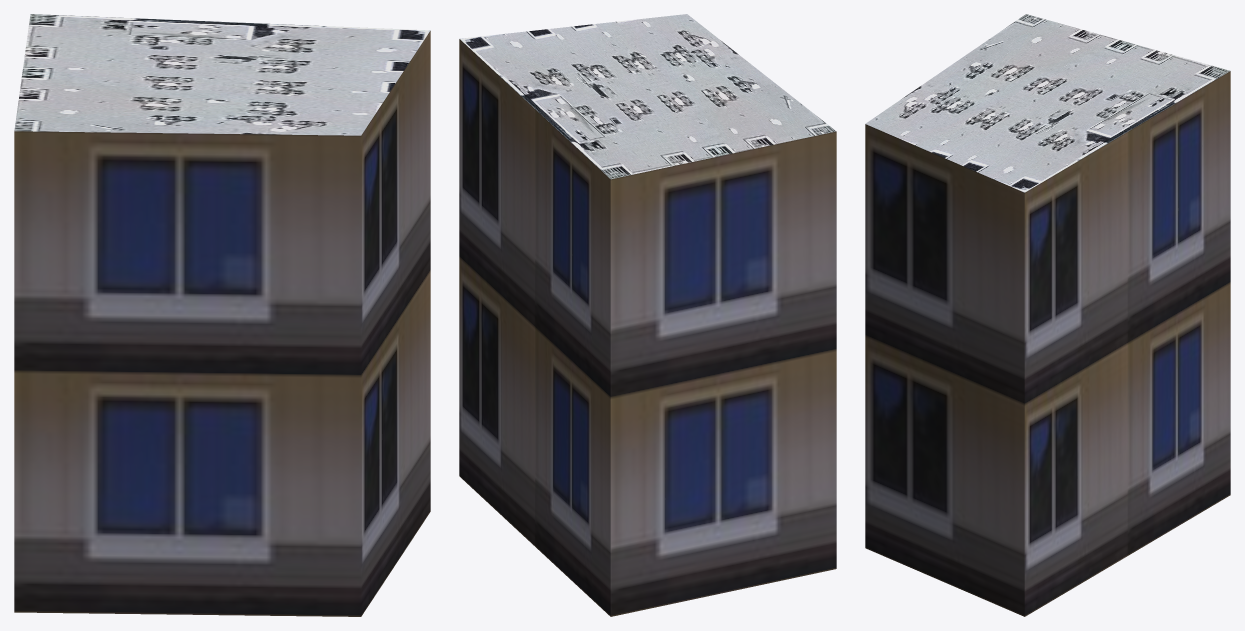
Rendered from ResTex__142.fbx.
3 views of the same model, side by side, from view 1: azimuth 30°, elevation 25°; view 2: azimuth 150°, elevation 25°; view 3: azimuth 270°, elevation 25° (orthographic). The views are drawn at different scales.
Parts seen in each view (by area): view 1: CityEngineMaterial_5_m, CityEngineMaterial_m; view 2: CityEngineMaterial_5_m, CityEngineMaterial_m; view 3: CityEngineMaterial_5_m, CityEngineMaterial_m.
Boxes of the visible parts, x1,y1,x2,y2 form: CityEngineMaterial_5_m: (14, 31, 430, 616); CityEngineMaterial_m: (14, 14, 430, 135); CityEngineMaterial_5_m: (459, 39, 836, 616); CityEngineMaterial_m: (459, 14, 836, 179); CityEngineMaterial_5_m: (865, 71, 1230, 616); CityEngineMaterial_m: (865, 14, 1230, 192).
Bounding box in the file's own units: 5.42 × 6 × 4.69.
2 materials, 2 textured.
